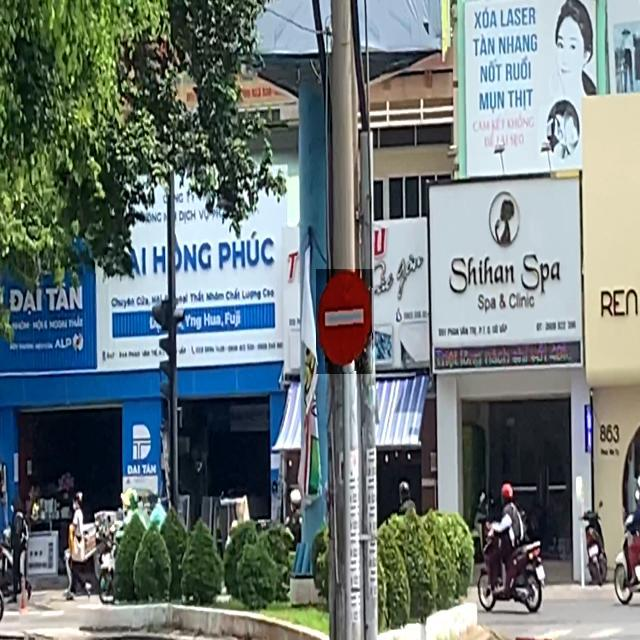P-102: (317, 269, 375, 374)
